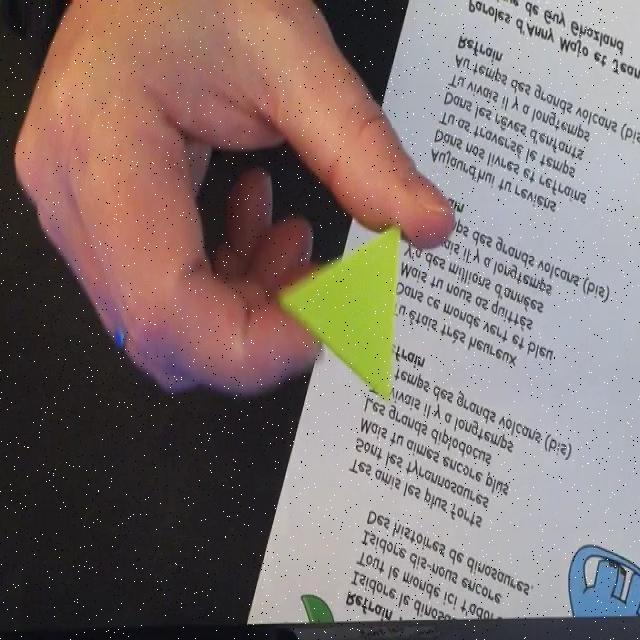triangle: (276, 220, 402, 404)
